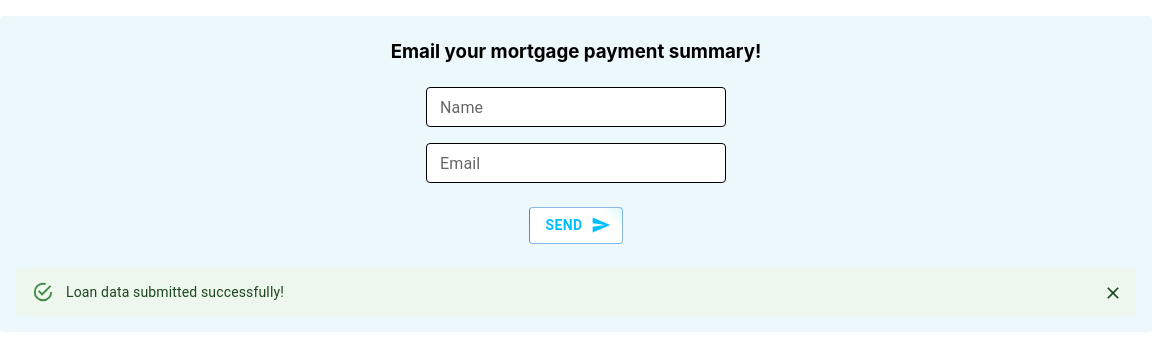
Test case: <EmailForm /> › displays an error alert when button is clicked and name and email are blank
Expected: the text "Please provide a name and email address." is not shown
Click the button "Send" at coordinates (576, 225), box [530,207,623,244]
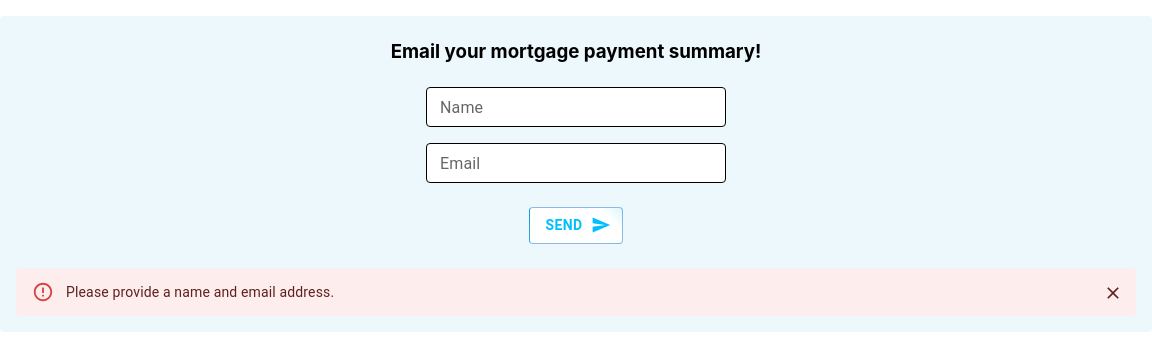
Now the text "Please provide a name and email address." is shown, box [66,284,334,300]
